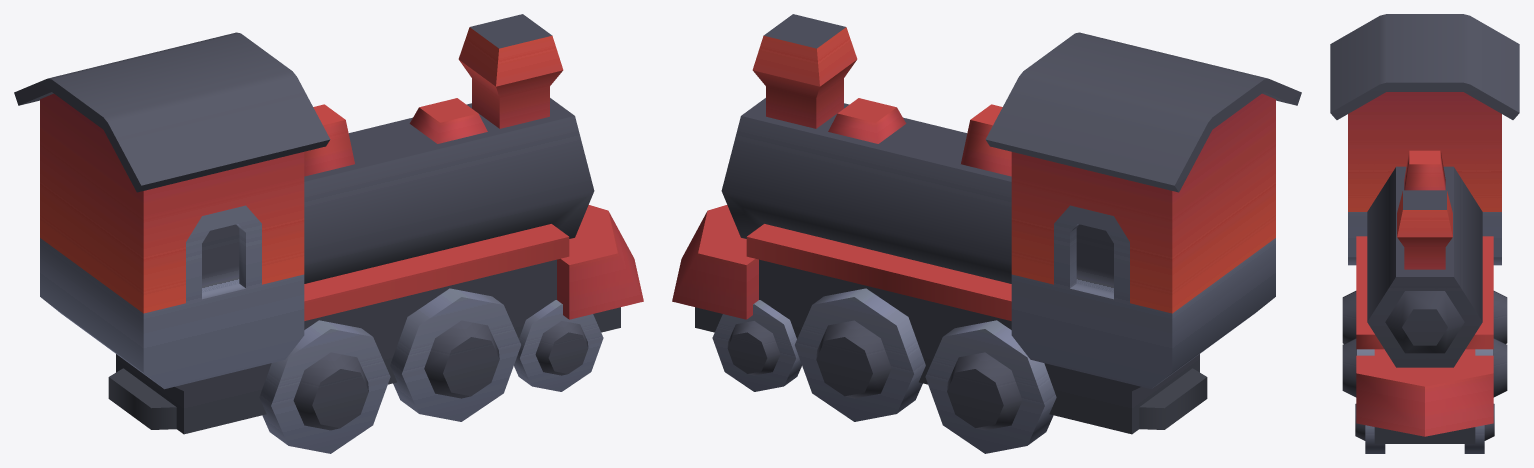
Rendered from train-locomotive.glb.
The picture shows the model from 3 angles, left to right: view 1: azimuth 30°, elevation 25°; view 2: azimuth 150°, elevation 25°; view 3: azimuth 270°, elevation 25°; orthographic projection. The views are drawn at different scales.
Visible parts, largest first — view 1: train-locomotive; view 2: train-locomotive; view 3: train-locomotive.
Boxes of the visible parts, x1=… form: train-locomotive: x1=14, y1=14, x2=643, y2=453; train-locomotive: x1=672, y1=14, x2=1301, y2=453; train-locomotive: x1=1330, y1=14, x2=1519, y2=453.
Size of the model in its own units: 0.6695 by 0.4283 by 0.2651.
1 material, 1 textured.
